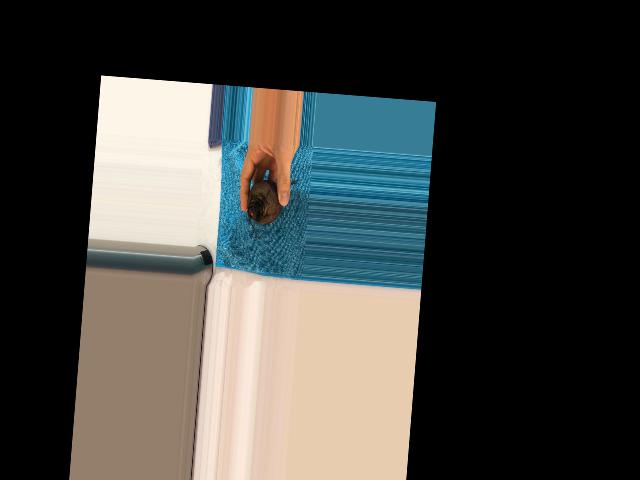beet: (245, 176, 299, 240)
